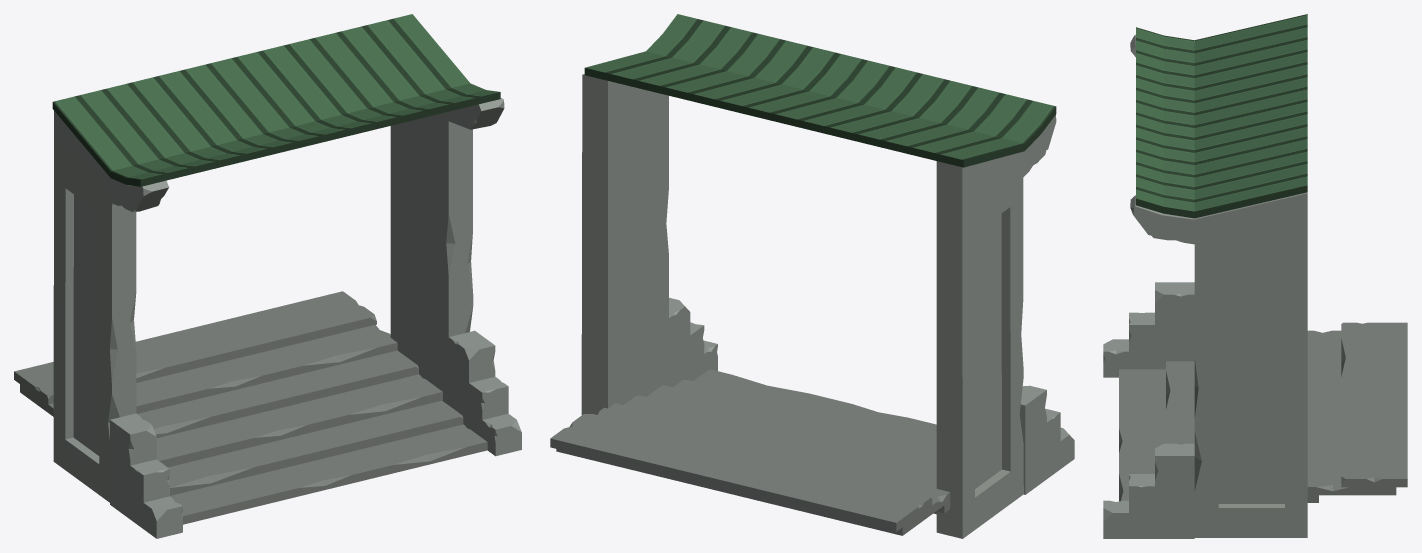
The model's file is SM_Env_Door_27.fbx.
The picture shows the model from 3 angles, left to right: view 1: azimuth 30°, elevation 25°; view 2: azimuth 150°, elevation 25°; view 3: azimuth 270°, elevation 25°; orthographic projection. The views are drawn at different scales.
Parts seen in each view (by area): view 1: SM_Env_Door_27; view 2: SM_Env_Door_27; view 3: SM_Env_Door_27.
Boxes of the visible parts, left/top/right/bottom form: SM_Env_Door_27: left=14, top=14, right=521, bottom=538; SM_Env_Door_27: left=550, top=14, right=1074, bottom=538; SM_Env_Door_27: left=1103, top=14, right=1407, bottom=538.
Bounding box in the file's own units: 211 × 199 × 156.
Materials: 1 (1 with a texture image).
